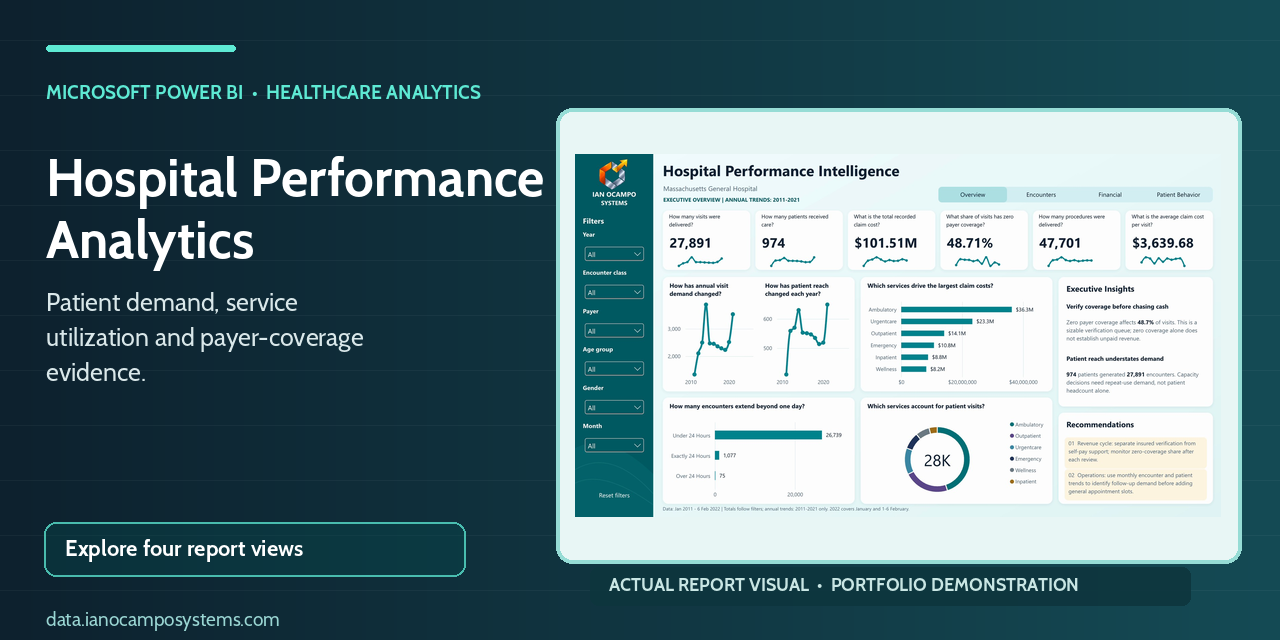

The dashboard page shown, as its layout file describes it:
{"tool":"powerbi","page":{"name":"Executive Overview","canvas":[1280,720],"ordinal":0},"visuals":[{"type":"textbox","box":[174,12,1086,53],"z":4},{"type":"textbox","box":[175,59,510,31],"z":5},{"type":"textbox","box":[175,82,510,28],"z":6},{"type":"actionButton","box":[720,65,136,31],"z":7},{"type":"actionButton","box":[856,65,136,31],"z":8},{"type":"actionButton","box":[992,65,136,31],"z":9},{"type":"actionButton","box":[1128,65,136,31],"z":10},{"type":"textbox","box":[16,122,125,33],"z":11},{"type":"textbox","box":[16,151,126,30],"z":12},{"type":"slicer","fields":{"Values":["DimDate.Year"]},"box":[14,179,127,49],"z":13},{"type":"textbox","box":[16,227,126,30],"z":14},{"type":"slicer","fields":{"Values":["encounters.EncounterClass"]},"box":[14,255,127,49],"z":15},{"type":"textbox","box":[16,303,126,30],"z":16},{"type":"slicer","fields":{"Values":["payers.Name"]},"box":[14,331,127,49],"z":17},{"type":"textbox","box":[16,379,126,30],"z":18},{"type":"slicer","fields":{"Values":["encounters.PatientAgeGroup"]},"box":[14,407,127,49],"z":19},{"type":"textbox","box":[16,455,126,30],"z":20},{"type":"slicer","fields":{"Values":["patients.Gender"]},"box":[14,483,127,49],"z":21},{"type":"textbox","box":[16,531,126,30],"z":22},{"type":"slicer","fields":{"Values":["DimDate.Month"]},"box":[14,559,127,49],"z":23},{"type":"actionButton","box":[14,661,127,32],"z":24},{"type":"textbox","box":[174,694,1090,26],"z":25},{"type":"textbox","box":[186,115,149.3,43],"z":26},{"type":"cardVisual","fields":{"Data":["encounters.Total Encounters"]},"box":[187,157,147.3,34],"z":27},{"type":"lineChart","fields":{"Category":["DimDate.Year"],"Y":["encounters.Total Encounters"]},"box":[187,194,147.3,32],"z":28},{"type":"textbox","box":[369.3,115,149.3,43],"z":29},{"type":"cardVisual","fields":{"Data":["encounters.Unique Patients"]},"box":[370.3,157,147.3,34],"z":30},{"type":"lineChart","fields":{"Category":["DimDate.Year"],"Y":["encounters.Unique Patients"]},"box":[370.3,194,147.3,32],"z":31},{"type":"textbox","box":[552.7,115,149.3,43],"z":32},{"type":"cardVisual","fields":{"Data":["encounters.Total Claim Cost"]},"box":[553.7,157,147.3,34],"z":33},{"type":"lineChart","fields":{"Category":["DimDate.Year"],"Y":["encounters.Total Claim Cost"]},"box":[553.7,194,147.3,32],"z":34},{"type":"textbox","box":[736,115,149.3,43],"z":35},{"type":"cardVisual","fields":{"Data":["encounters.Zero Coverage %"]},"box":[737,157,147.3,34],"z":36},{"type":"lineChart","fields":{"Category":["DimDate.Year"],"Y":["encounters.Zero Coverage %"]},"box":[737,194,147.3,32],"z":37},{"type":"textbox","box":[919.3,115,149.3,43],"z":38},{"type":"cardVisual","fields":{"Data":["encounters.Total Procedures"]},"box":[920.3,157,147.3,34],"z":39},{"type":"lineChart","fields":{"Category":["DimDate.Year"],"Y":["encounters.Total Procedures"]},"box":[920.3,194,147.3,32],"z":40},{"type":"textbox","box":[1102.7,115,149.3,43],"z":41},{"type":"cardVisual","fields":{"Data":["encounters.Average Claim Cost"]},"box":[1103.7,157,147.3,34],"z":42},{"type":"lineChart","fields":{"Category":["DimDate.Year"],"Y":["encounters.Average Claim Cost"]},"box":[1103.7,194,147.3,32],"z":43},{"type":"textbox","box":[187,252,164,42],"z":44},{"type":"lineChart","fields":{"Category":["DimDate.Year"],"Y":["encounters.Total Encounters"]},"box":[183,286,172,179],"z":45},{"type":"textbox","box":[377,252,166,42],"z":46},{"type":"lineChart","fields":{"Category":["DimDate.Year"],"Y":["encounters.Unique Patients"]},"box":[373,286,172,179],"z":47},{"type":"textbox","box":[579,252,354,42],"z":48},{"type":"clusteredBarChart","fields":{"Category":["encounters.EncounterClass"],"Y":["encounters.Total Claim Cost"]},"box":[575,286,362,179],"z":49},{"type":"textbox","box":[187,491,354,42],"z":50},{"type":"clusteredBarChart","fields":{"Category":["encounters.DurationCategory"],"Y":["encounters.Total Encounters"]},"box":[183,525,362,163],"z":51},{"type":"textbox","box":[579,491,354,42],"z":52},{"type":"donutChart","fields":{"Category":["encounters.EncounterClass"],"Y":["encounters.Total Encounters"]},"box":[575,525,362,163],"z":53},{"type":"textbox","box":[974,256,274,35],"z":54},{"type":"textbox","box":[974,294,274,32],"z":55},{"type":"textbox","box":[974,325,274,71],"z":56},{"type":"textbox","box":[974,397,274,32],"z":57},{"type":"textbox","box":[974,428,274,71],"z":58},{"type":"textbox","box":[974,526,274,34],"z":59},{"type":"textbox","box":[978,565,270,57],"z":60},{"type":"textbox","box":[978,628,270,57],"z":61},{"type":"image","box":[41.5,8,66,66],"z":1000},{"type":"textbox","box":[8,70,139,43],"z":1001}]}

Visuals, with their boxes on the page's 1280x720 design canvas (x1, y1, x2, y2). These are canvas units, not pixel positions in the 1280x640 screenshot, which may show the page scaled, cropped or inside an application window:
textbox: BBox(174, 12, 1260, 65)
textbox: BBox(175, 59, 685, 90)
textbox: BBox(175, 82, 685, 110)
actionButton: BBox(720, 65, 856, 96)
actionButton: BBox(856, 65, 992, 96)
actionButton: BBox(992, 65, 1128, 96)
actionButton: BBox(1128, 65, 1264, 96)
textbox: BBox(16, 122, 141, 155)
textbox: BBox(16, 151, 142, 181)
slicer - DimDate.Year: BBox(14, 179, 141, 228)
textbox: BBox(16, 227, 142, 257)
slicer - encounters.EncounterClass: BBox(14, 255, 141, 304)
textbox: BBox(16, 303, 142, 333)
slicer - payers.Name: BBox(14, 331, 141, 380)
textbox: BBox(16, 379, 142, 409)
slicer - encounters.PatientAgeGroup: BBox(14, 407, 141, 456)
textbox: BBox(16, 455, 142, 485)
slicer - patients.Gender: BBox(14, 483, 141, 532)
textbox: BBox(16, 531, 142, 561)
slicer - DimDate.Month: BBox(14, 559, 141, 608)
actionButton: BBox(14, 661, 141, 693)
textbox: BBox(174, 694, 1264, 720)
textbox: BBox(186, 115, 335, 158)
cardVisual - encounters.Total Encounters: BBox(187, 157, 334, 191)
lineChart - DimDate.Year x encounters.Total Encounters: BBox(187, 194, 334, 226)
textbox: BBox(369, 115, 519, 158)
cardVisual - encounters.Unique Patients: BBox(370, 157, 518, 191)
lineChart - DimDate.Year x encounters.Unique Patients: BBox(370, 194, 518, 226)
textbox: BBox(553, 115, 702, 158)
cardVisual - encounters.Total Claim Cost: BBox(554, 157, 701, 191)
lineChart - DimDate.Year x encounters.Total Claim Cost: BBox(554, 194, 701, 226)
textbox: BBox(736, 115, 885, 158)
cardVisual - encounters.Zero Coverage %: BBox(737, 157, 884, 191)
lineChart - DimDate.Year x encounters.Zero Coverage %: BBox(737, 194, 884, 226)
textbox: BBox(919, 115, 1069, 158)
cardVisual - encounters.Total Procedures: BBox(920, 157, 1068, 191)
lineChart - DimDate.Year x encounters.Total Procedures: BBox(920, 194, 1068, 226)
textbox: BBox(1103, 115, 1252, 158)
cardVisual - encounters.Average Claim Cost: BBox(1104, 157, 1251, 191)
lineChart - DimDate.Year x encounters.Average Claim Cost: BBox(1104, 194, 1251, 226)
textbox: BBox(187, 252, 351, 294)
lineChart - DimDate.Year x encounters.Total Encounters: BBox(183, 286, 355, 465)
textbox: BBox(377, 252, 543, 294)
lineChart - DimDate.Year x encounters.Unique Patients: BBox(373, 286, 545, 465)
textbox: BBox(579, 252, 933, 294)
clusteredBarChart - encounters.EncounterClass x encounters.Total Claim Cost: BBox(575, 286, 937, 465)
textbox: BBox(187, 491, 541, 533)
clusteredBarChart - encounters.DurationCategory x encounters.Total Encounters: BBox(183, 525, 545, 688)
textbox: BBox(579, 491, 933, 533)
donutChart - encounters.EncounterClass x encounters.Total Encounters: BBox(575, 525, 937, 688)
textbox: BBox(974, 256, 1248, 291)
textbox: BBox(974, 294, 1248, 326)
textbox: BBox(974, 325, 1248, 396)
textbox: BBox(974, 397, 1248, 429)
textbox: BBox(974, 428, 1248, 499)
textbox: BBox(974, 526, 1248, 560)
textbox: BBox(978, 565, 1248, 622)
textbox: BBox(978, 628, 1248, 685)
image: BBox(42, 8, 108, 74)
textbox: BBox(8, 70, 147, 113)
